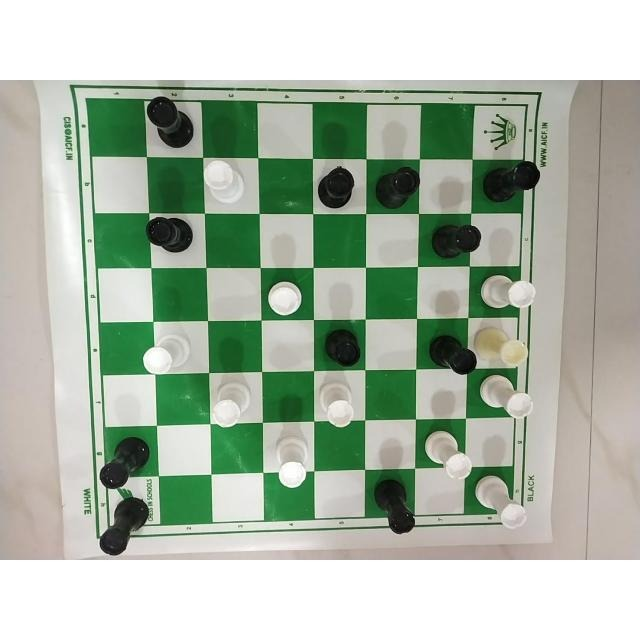black-rook: (94, 497, 152, 554), (97, 436, 153, 492), (144, 94, 198, 152), (371, 477, 420, 535), (426, 329, 480, 381), (483, 159, 541, 207), (428, 220, 483, 262), (373, 163, 420, 211), (143, 215, 195, 256), (316, 164, 360, 212), (321, 326, 365, 370)
white-rook: (472, 475, 532, 531), (420, 429, 474, 482), (472, 322, 531, 370), (476, 374, 537, 419), (478, 272, 537, 316), (199, 160, 250, 210), (142, 335, 194, 377), (273, 434, 311, 490), (316, 379, 358, 429), (212, 379, 252, 429), (265, 279, 311, 319)
